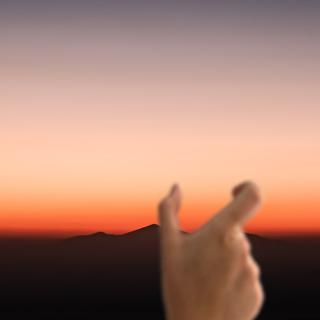HATE: (153, 177, 269, 315)
